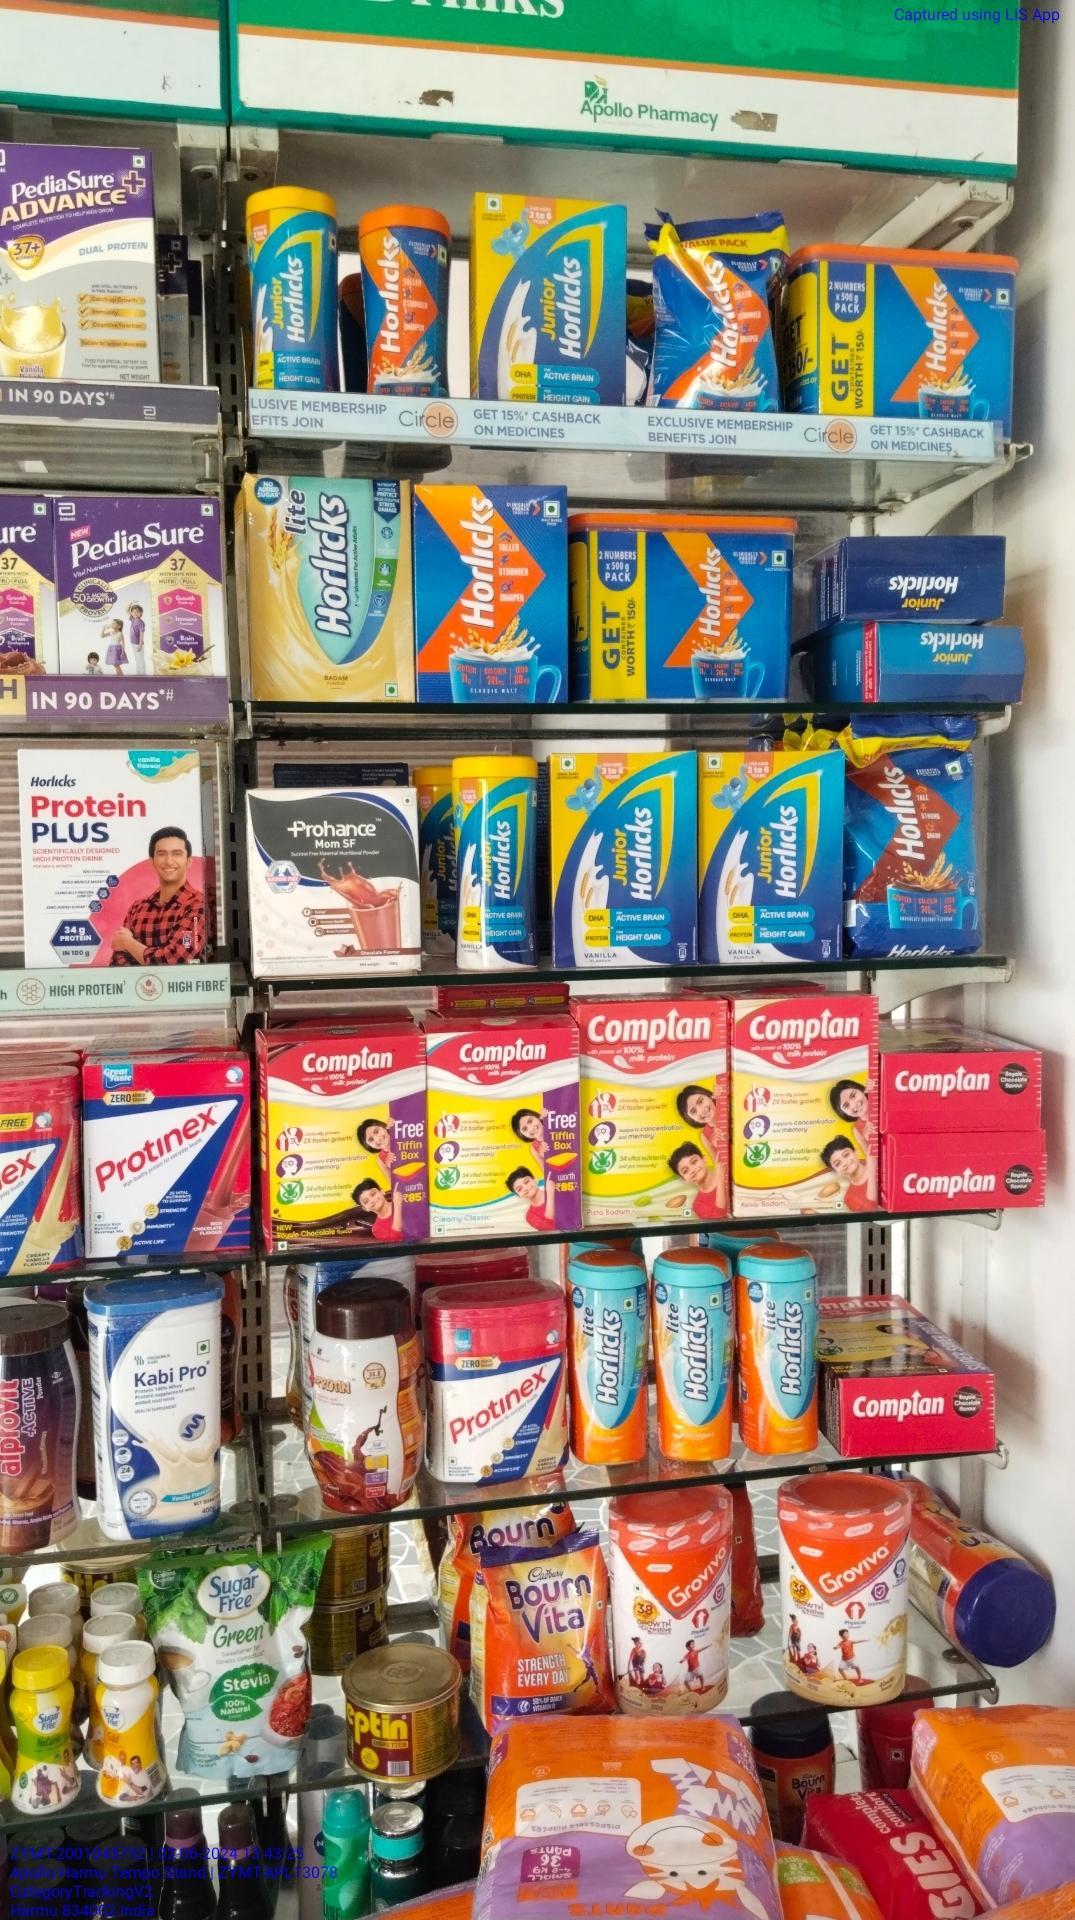HORLICKS_JUNIOR_VANILLA_500_GM_JAR: (249, 193, 343, 396), (458, 757, 539, 965)
HORLICKS_LITE_REGULAR_MALT_500_GM_JAR: (704, 756, 842, 964), (570, 1254, 646, 1470), (658, 1254, 736, 1458), (740, 1251, 815, 1455)
HORLICK_MALT_1_KG_CONTAINER: (583, 508, 789, 699), (811, 255, 1017, 423)
PEDIASURE_VANILLA_500_G_PACK: (55, 495, 236, 684)
PROTINEX_VANILLA_400_G_JAR: (437, 1294, 571, 1480)
